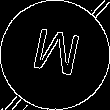M_S: (27, 25, 83, 85)
